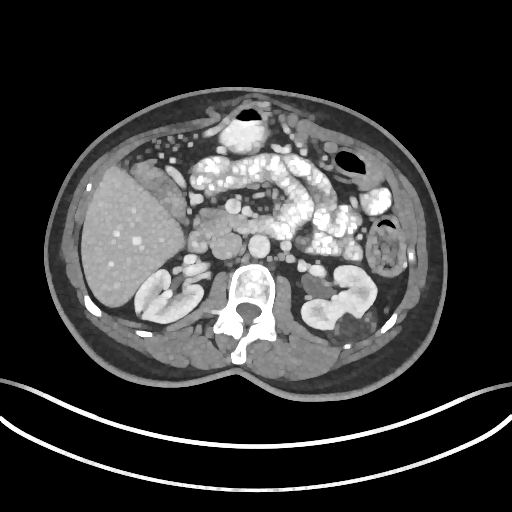Lesion: (330, 312, 373, 346)
